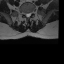CCS_normal: (27, 10, 29, 19)
LFS_normal: (31, 9, 33, 15)
LLS_normal: (29, 10, 31, 18)
RFS_normal: (23, 10, 25, 17)
RLS_normal: (25, 11, 27, 18)
